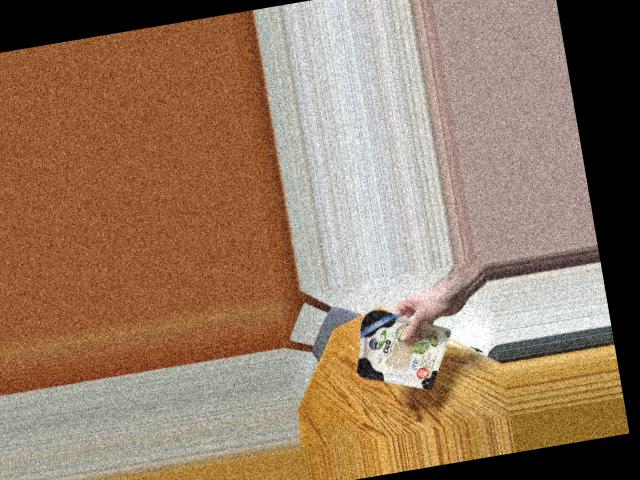cheese: (344, 304, 443, 397)
